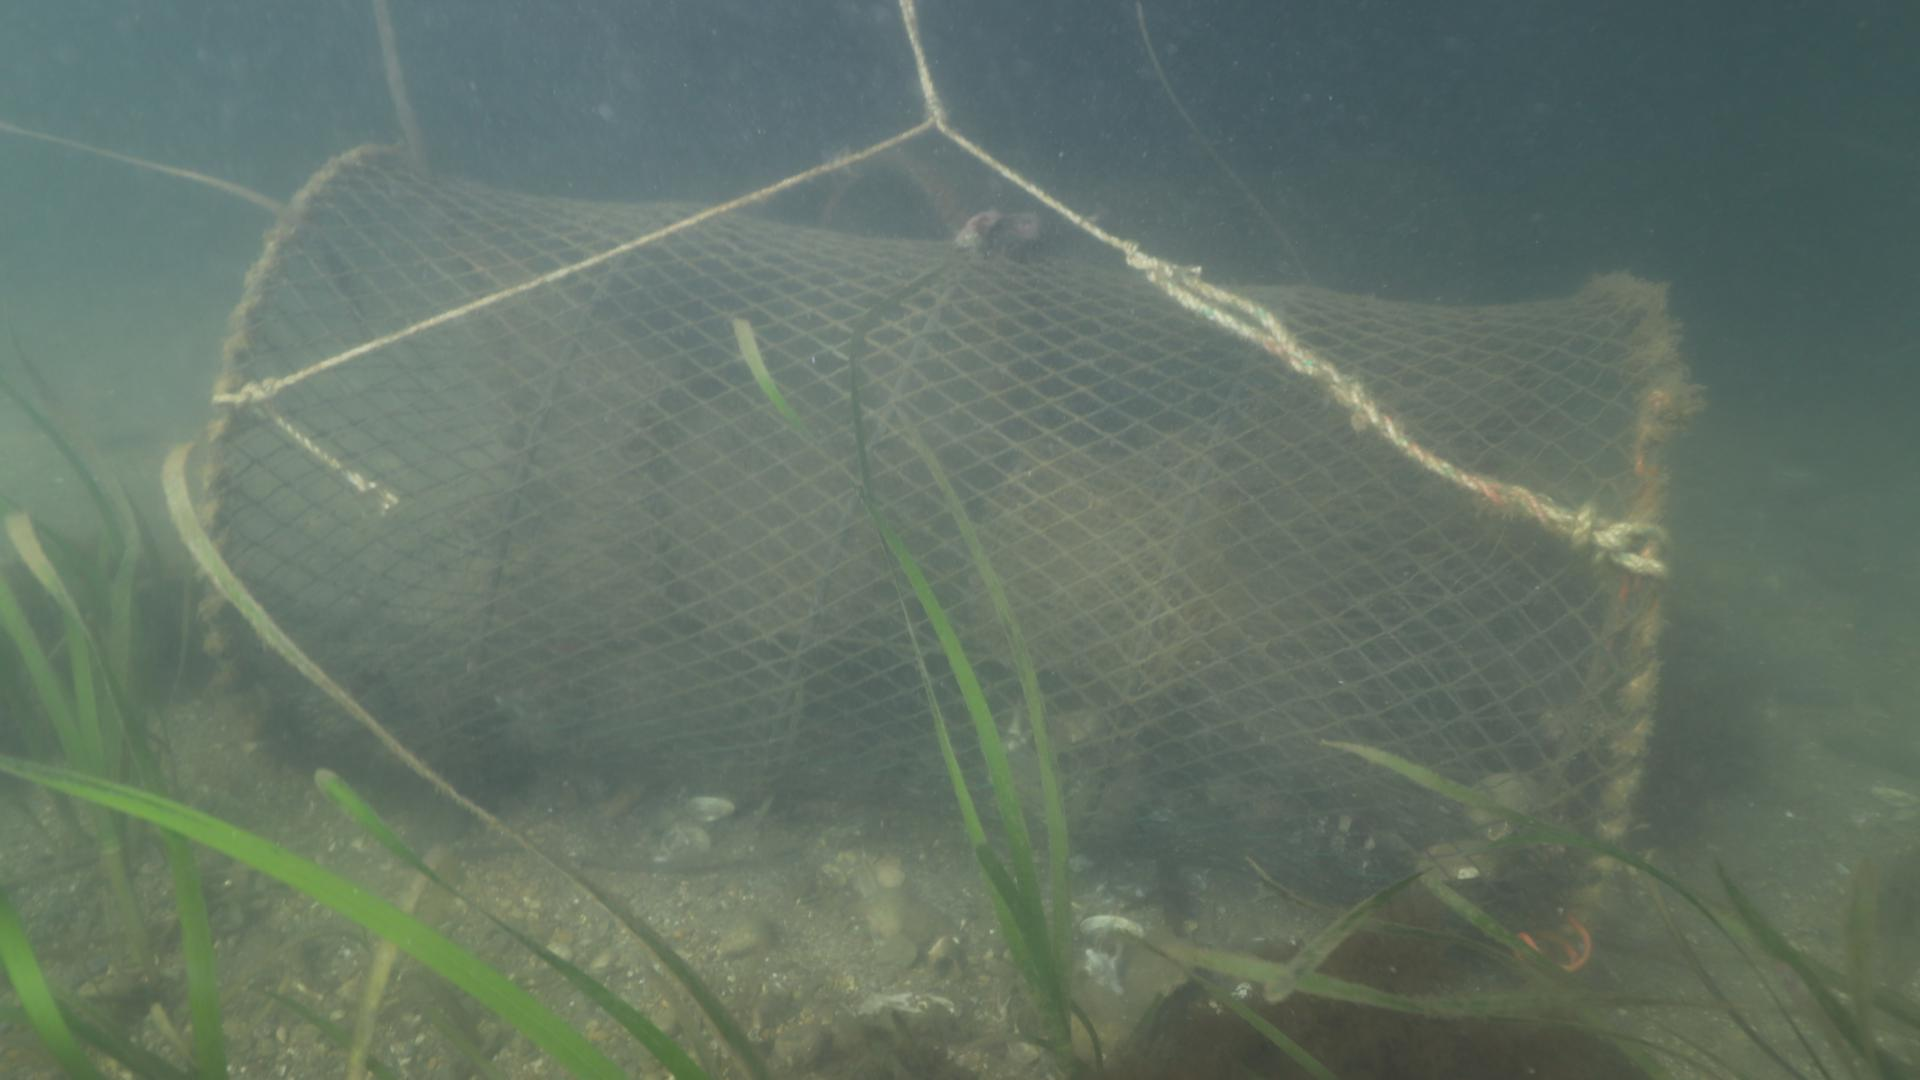bundle of ropes: (204, 0, 1673, 585)
spring fish trap: (196, 140, 1683, 961)
